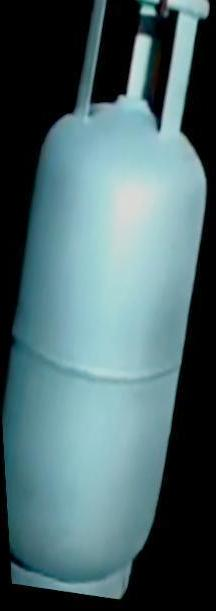cylinder: (1, 0, 216, 611)
